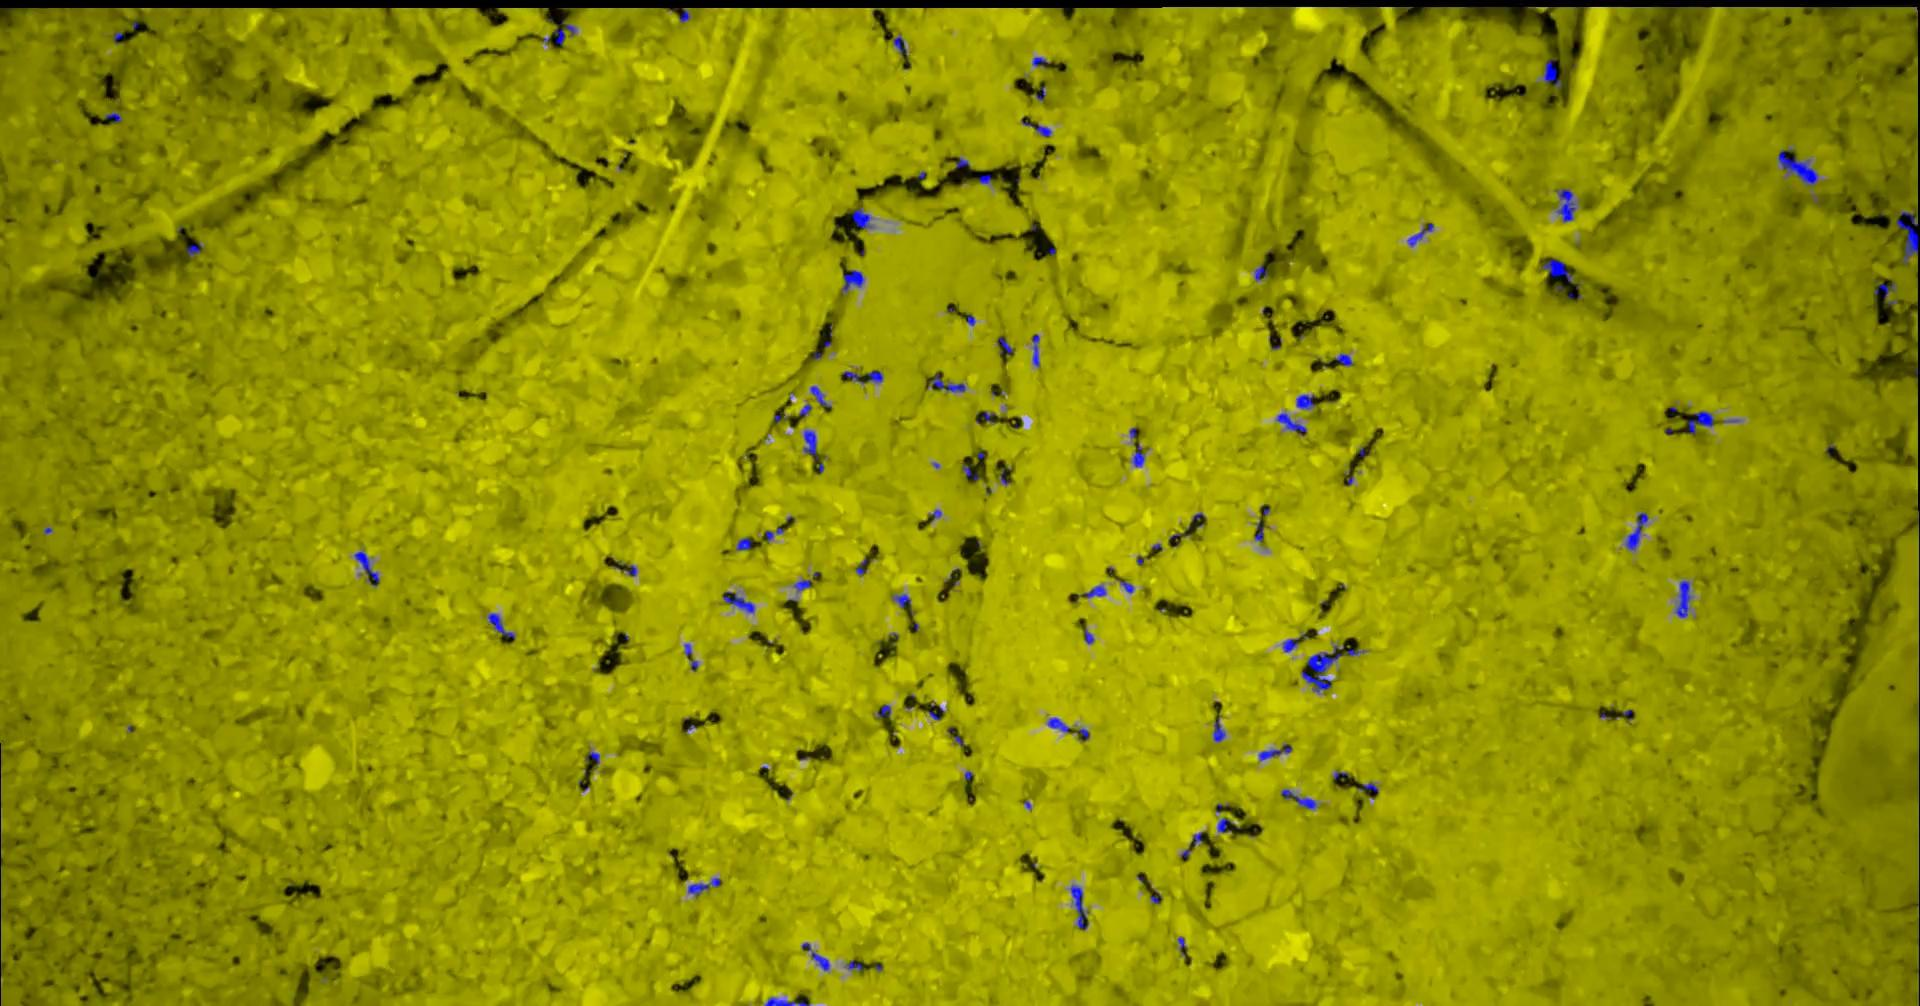ant: (1303, 645, 1368, 692), (1779, 149, 1818, 185), (1898, 211, 1920, 263), (1627, 511, 1650, 549), (356, 551, 381, 586), (1544, 258, 1575, 283), (1072, 885, 1090, 929), (930, 372, 968, 391), (724, 591, 756, 612), (489, 614, 516, 639), (1283, 789, 1318, 808), (1558, 188, 1577, 222), (1277, 413, 1307, 434), (690, 876, 723, 895), (1410, 222, 1435, 246), (1689, 410, 1716, 433), (1676, 580, 1693, 617), (1260, 743, 1293, 760), (843, 269, 865, 293), (1545, 58, 1563, 86), (1023, 119, 1053, 136), (555, 23, 577, 44), (811, 385, 832, 406), (853, 206, 872, 227), (805, 431, 819, 459), (1214, 713, 1227, 741), (615, 560, 637, 575), (766, 997, 811, 1005), (813, 951, 830, 970), (1049, 716, 1073, 730), (1876, 283, 1897, 298), (1032, 333, 1041, 366), (1297, 394, 1316, 409), (1134, 441, 1145, 466), (894, 593, 913, 608), (1284, 636, 1302, 652), (894, 36, 908, 55), (963, 465, 982, 479), (1084, 586, 1107, 597), (844, 371, 865, 384), (1219, 817, 1236, 832), (1001, 337, 1015, 354), (767, 527, 785, 540), (188, 243, 203, 257), (1336, 353, 1354, 365), (1256, 518, 1265, 541), (1032, 57, 1051, 67), (1256, 264, 1269, 279), (738, 537, 753, 550), (1357, 782, 1379, 791), (795, 579, 811, 591), (848, 959, 865, 970), (877, 704, 891, 716), (869, 370, 884, 381), (980, 173, 993, 183)
